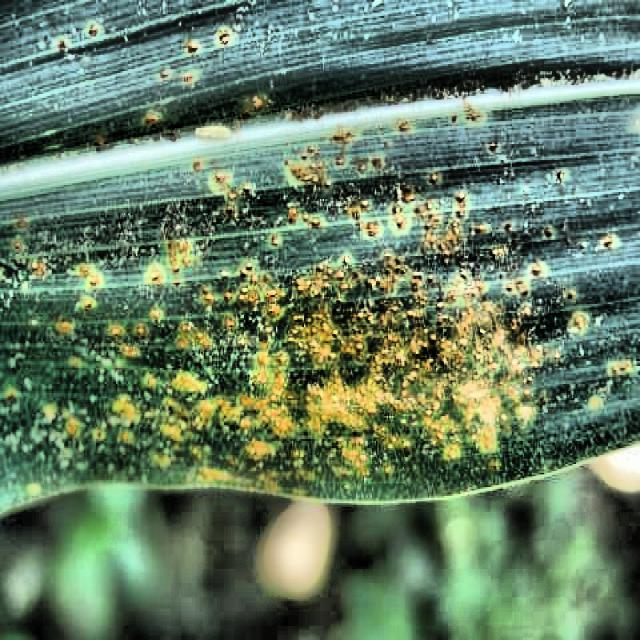common_rust: (10, 0, 640, 522)
